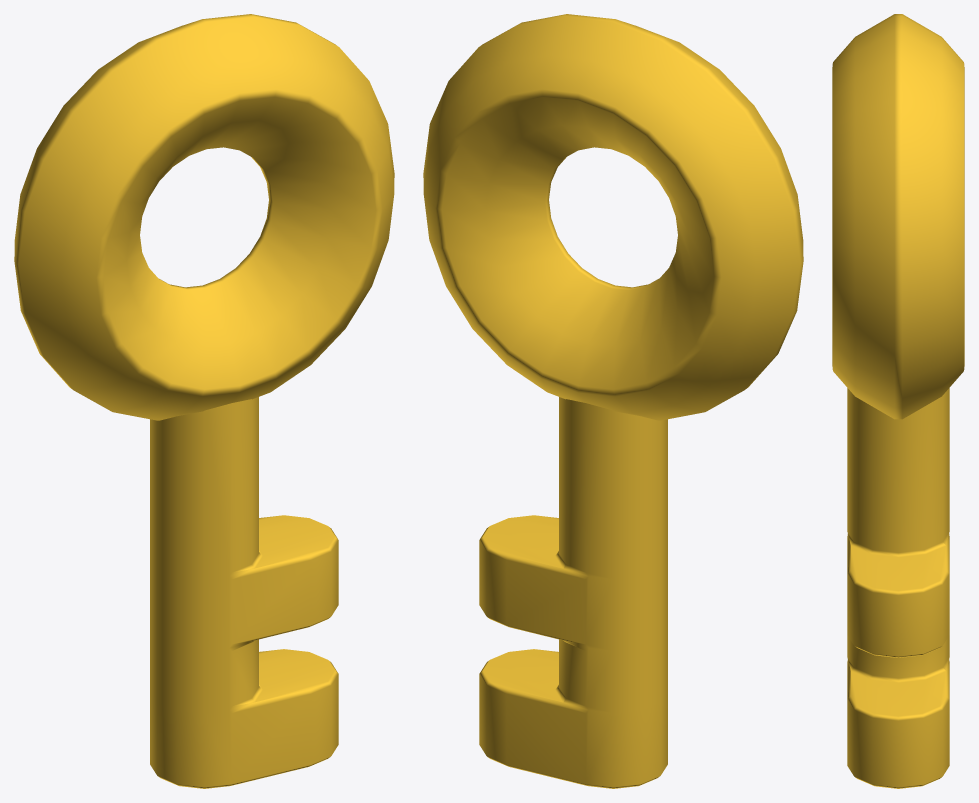
Rendered from Key.fbx.
3 views of the same model, side by side, from view 1: azimuth 30°, elevation 25°; view 2: azimuth 150°, elevation 25°; view 3: azimuth 270°, elevation 25° (orthographic). The views are drawn at different scales.
Parts seen in each view (by area): view 1: Key; view 2: Key; view 3: Key.
Boxes of the visible parts, box(x1,y1,x2,y2) form: Key: box(14, 14, 394, 788); Key: box(423, 14, 803, 788); Key: box(832, 14, 964, 788).
Size of the model in its own units: 93.7 by 178 by 30.53.
